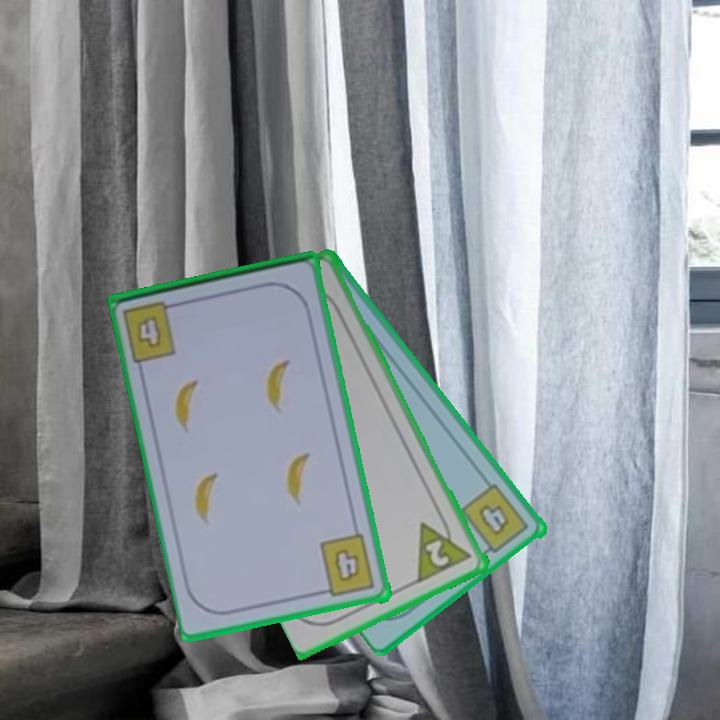2p: (413, 510, 475, 585)
4b: (458, 480, 533, 560), (316, 531, 378, 600), (133, 315, 165, 352)
